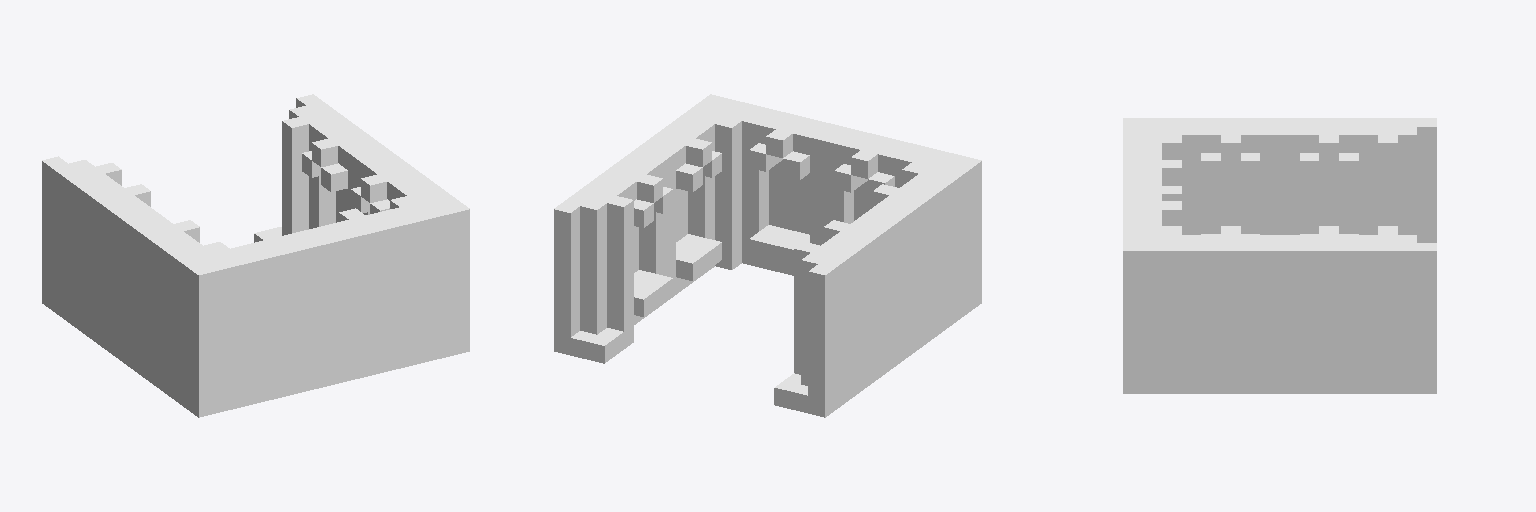
Rendered from towar-16.obj.
The picture shows the model from 3 angles: view 1: azimuth 30°, elevation 25°; view 2: azimuth 150°, elevation 25°; view 3: azimuth 270°, elevation 25°; orthographic projection.
Visible parts, largest first — view 1: towar-16; view 2: towar-16; view 3: towar-16.
Part boxes in pixels (x1,y1,x2,y2): towar-16: (42, 94, 469, 417); towar-16: (554, 94, 981, 417); towar-16: (1123, 118, 1436, 393).
Bounding box in the file's own units: 16 × 8 × 16.